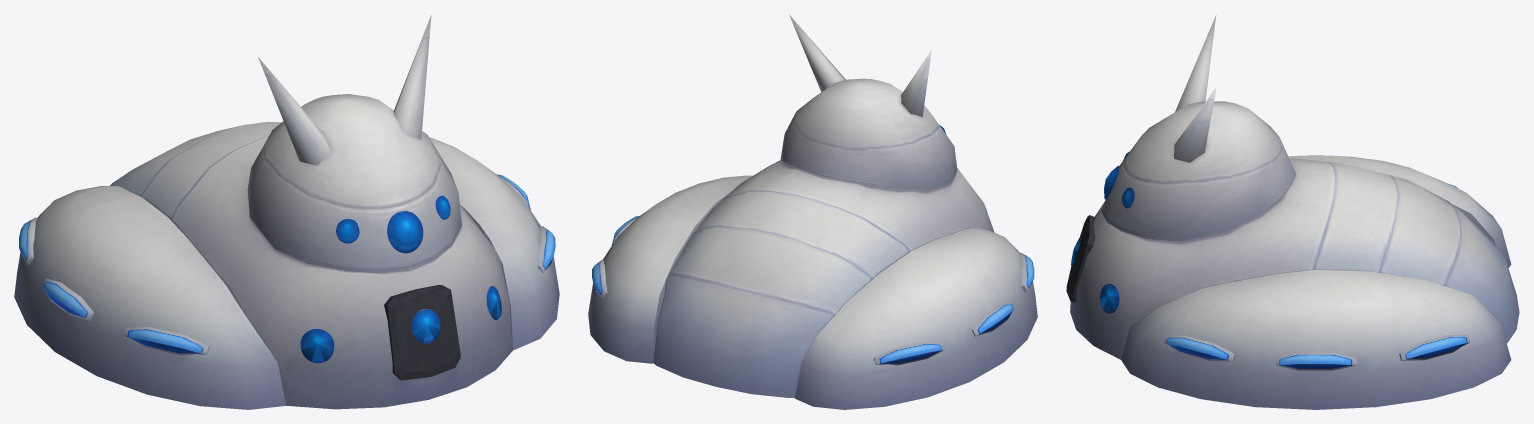
Rendered from nameikexing_jianzhu_04.FBX.
3 views of the same model, side by side, from view 1: azimuth 30°, elevation 25°; view 2: azimuth 150°, elevation 25°; view 3: azimuth 270°, elevation 25° (orthographic). The views are drawn at different scales.
Parts seen in each view (by area): view 1: nameikexing_jianzhu_04, men_01; view 2: nameikexing_jianzhu_04; view 3: nameikexing_jianzhu_04, men_01.
Boxes of the visible parts, box(x1,y1,x2,y2) form: nameikexing_jianzhu_04: box(14, 15, 559, 409); men_01: box(384, 285, 460, 380); nameikexing_jianzhu_04: box(588, 14, 1037, 409); nameikexing_jianzhu_04: box(1070, 15, 1519, 409); men_01: box(1066, 215, 1095, 302).
Bounding box in the file's own units: 1322 × 825 × 1295.
